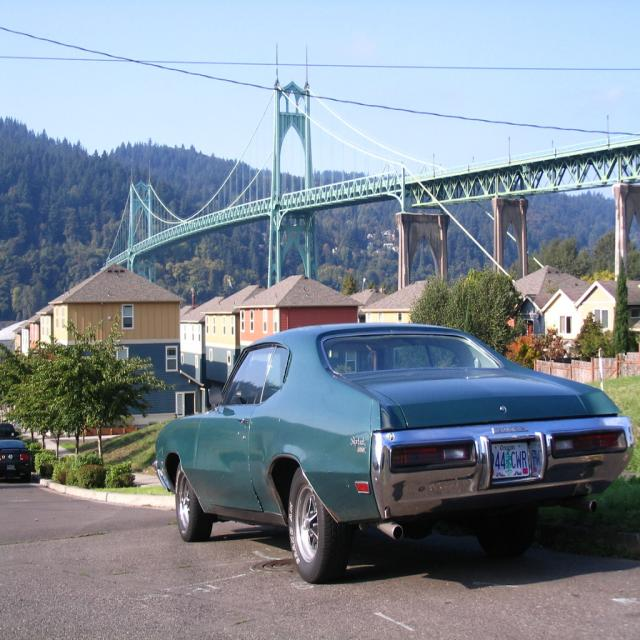car: (150, 314, 626, 583)
